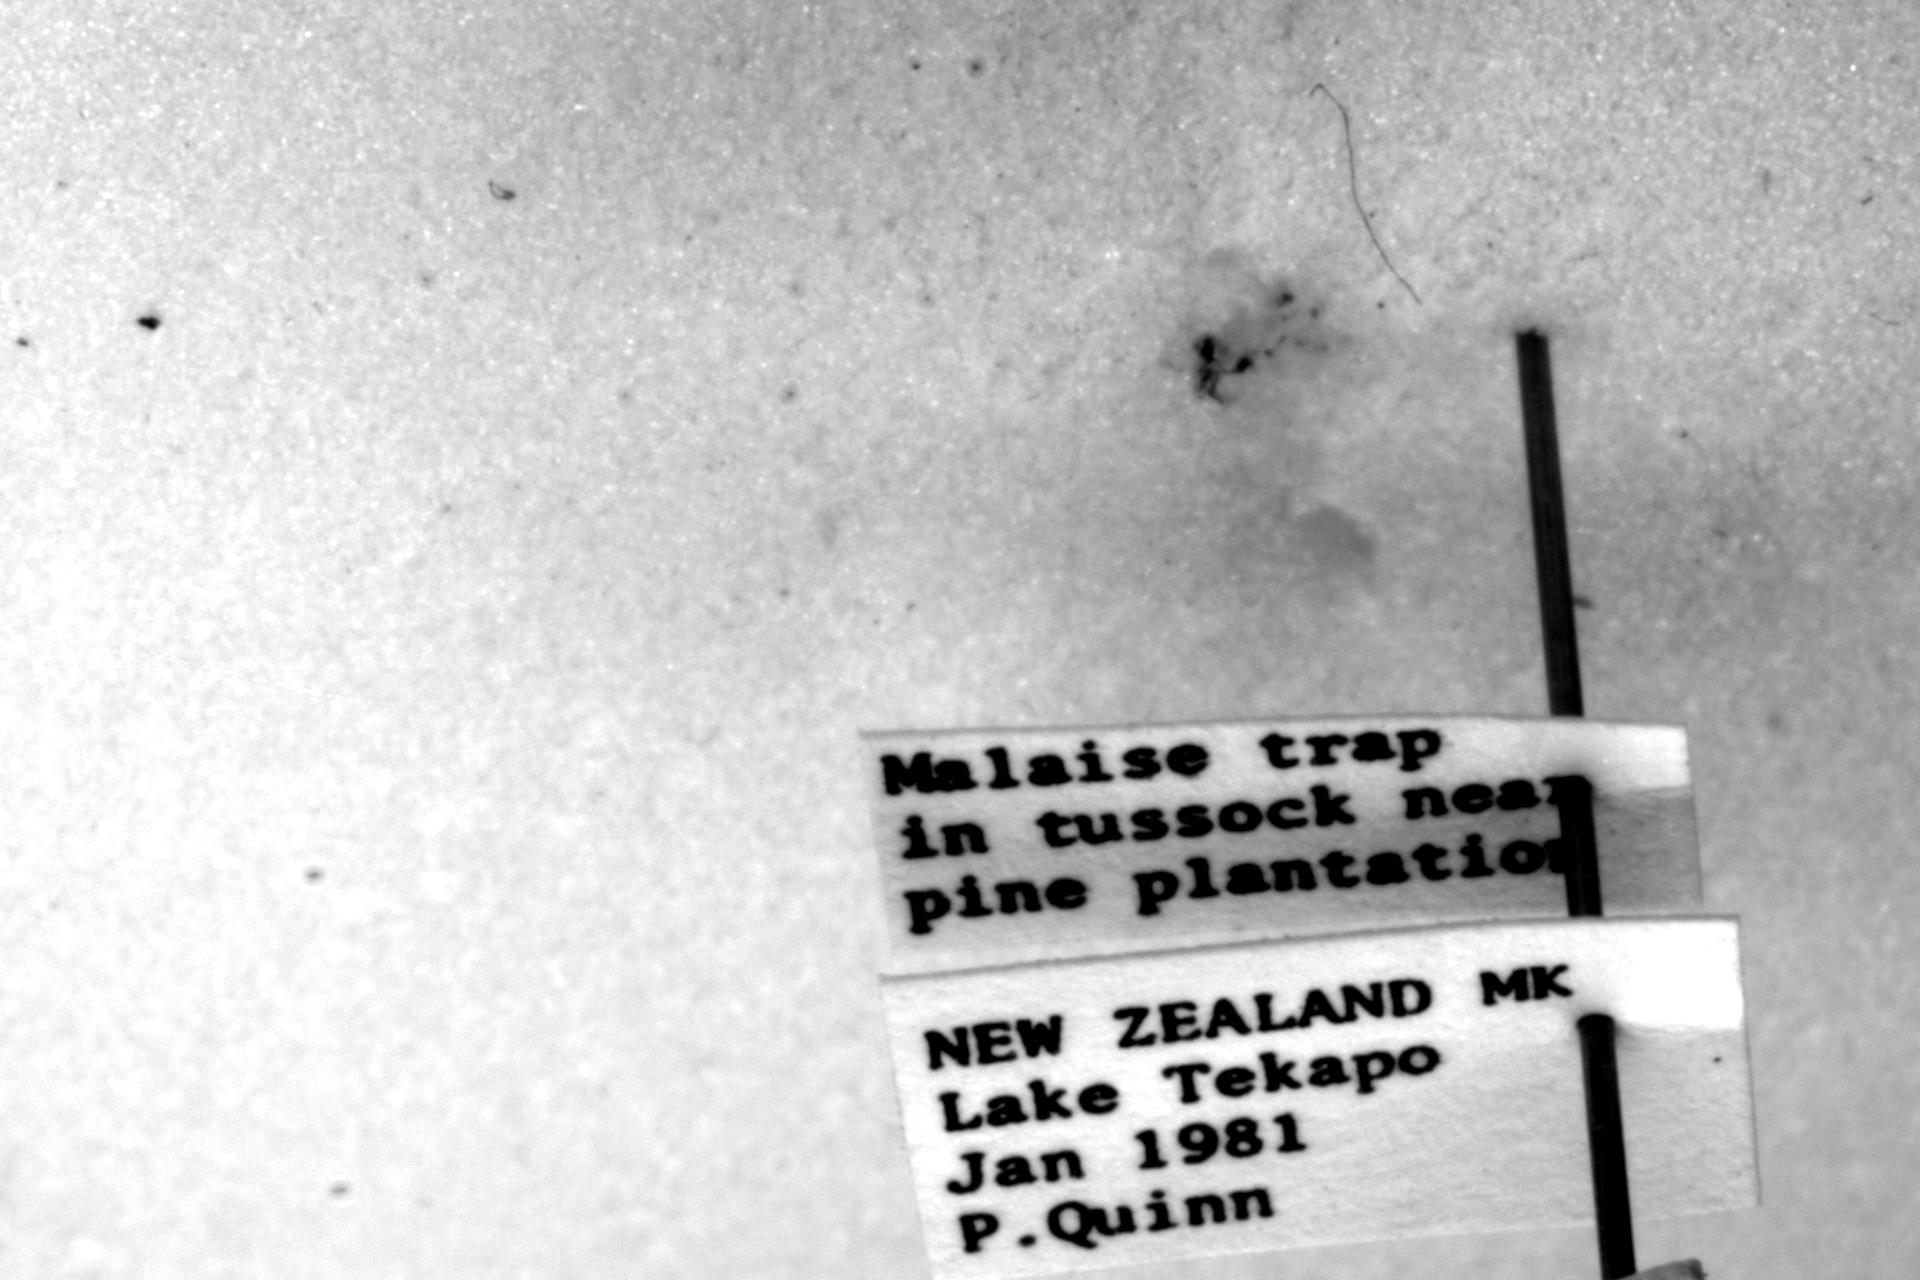typed_label: (881, 919, 1759, 1279), (863, 716, 1699, 953)
